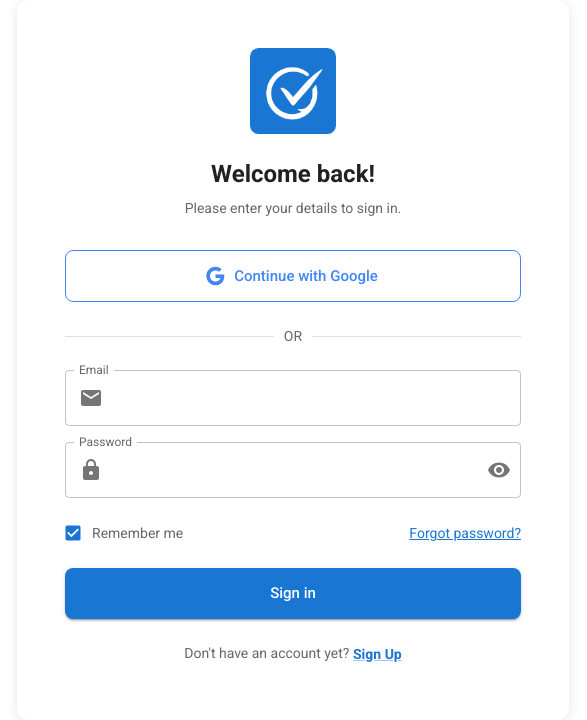
Test case: Authentication › Register Mode Validation › should show error when passwords do not match
(page scrolled)
Click the button "Sign Up".
click(378, 654)  # box x1=353 y1=644 x2=402 y2=664
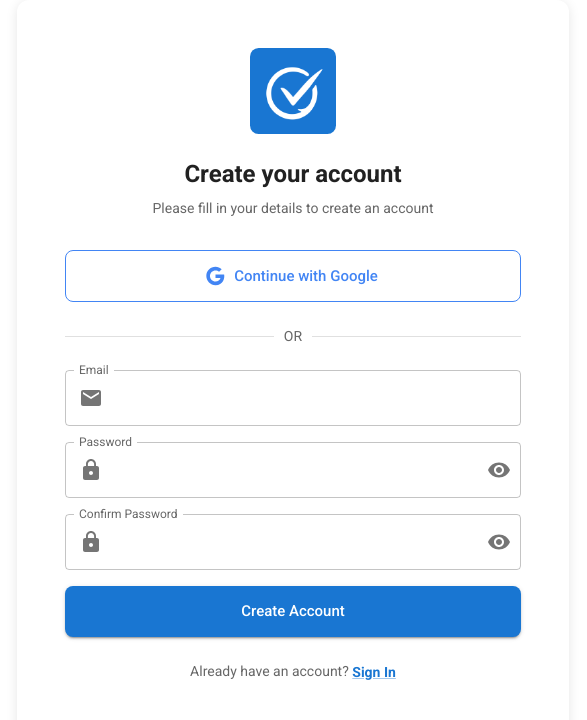
Type "newuser@example.com" into the field labelled "Email".
click(316, 398); type("newuser@example.com")  # box x1=111 y1=370 x2=521 y2=426
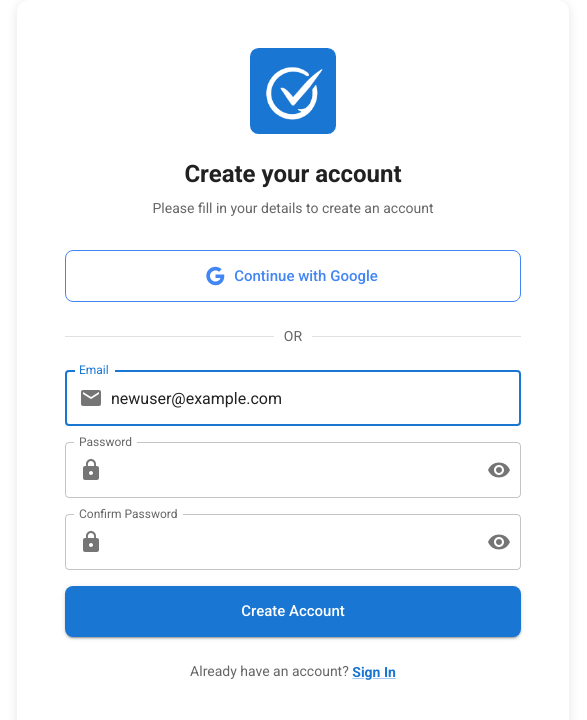
Type "password123" into the password field labelled "Password".
click(291, 470); type("password123")  # box x1=111 y1=442 x2=471 y2=498
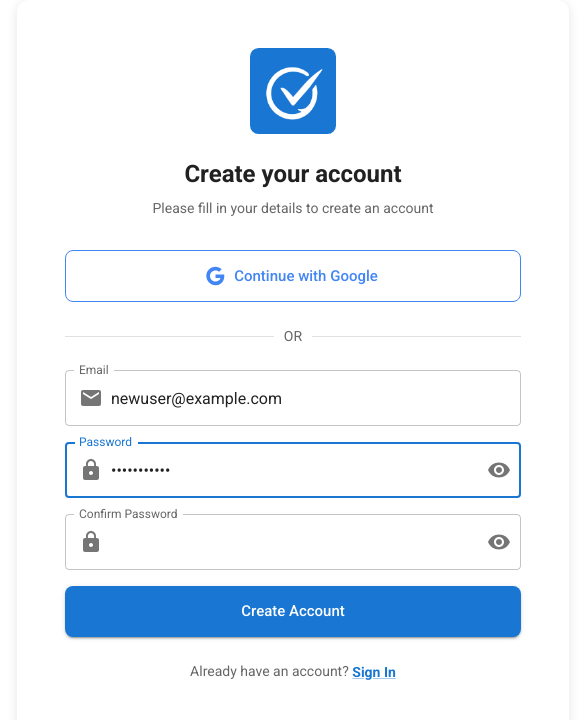
Type "differentpassword" into the password field labelled "Confirm Password".
click(291, 542); type("differentpassword")  # box x1=111 y1=514 x2=471 y2=570
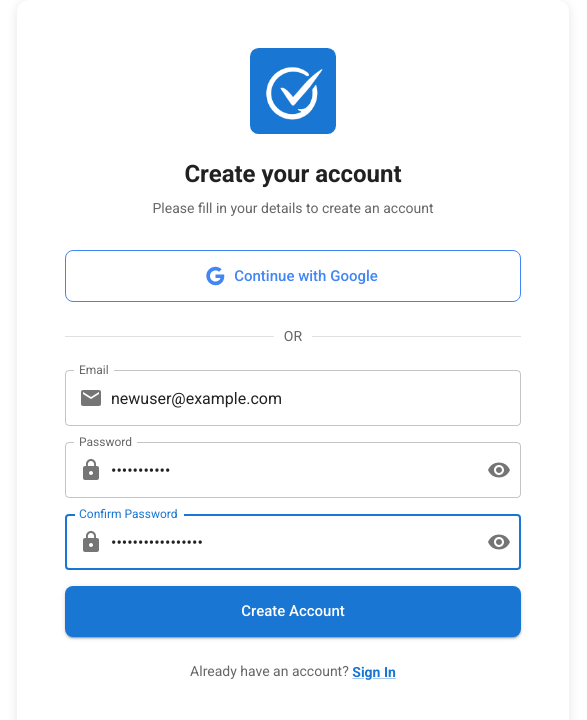
Click the button "Create Account".
click(293, 611)  # box x1=65 y1=586 x2=521 y2=636
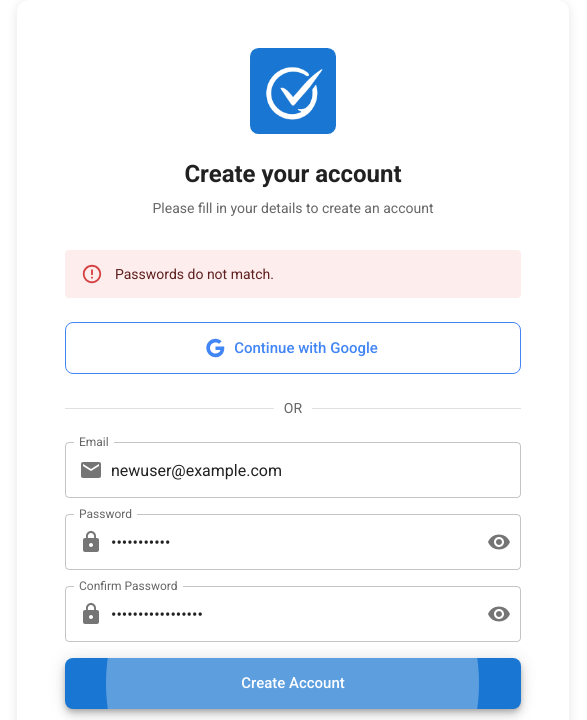
Now the text "Passwords do not match" is shown, box x1=115 y1=266 x2=274 y2=282
